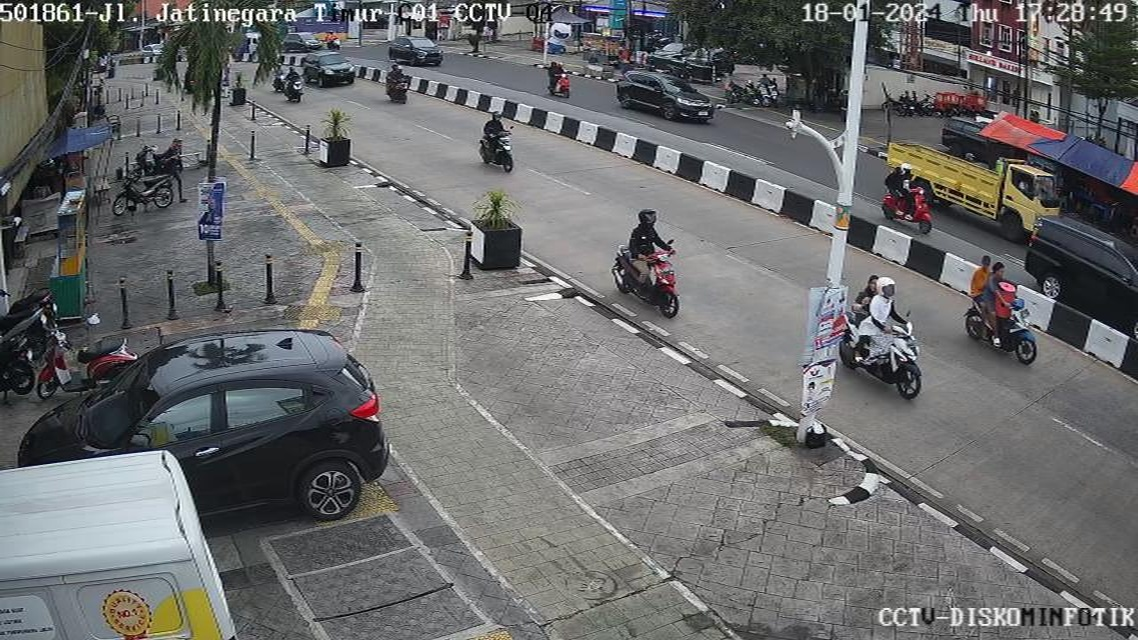Gerobak: (43, 199, 123, 312)
